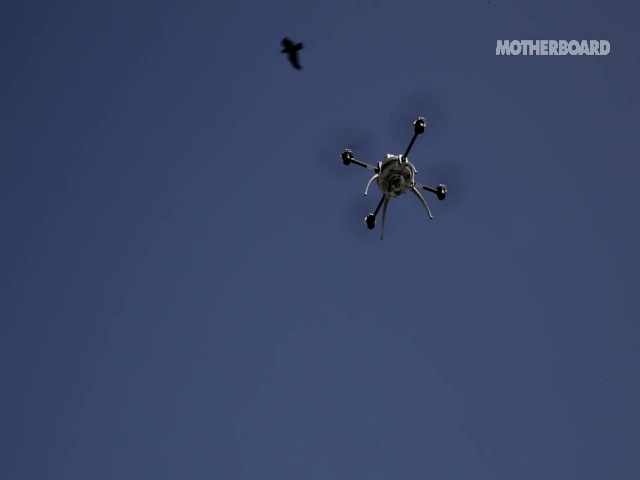drone: (323, 87, 469, 244)
